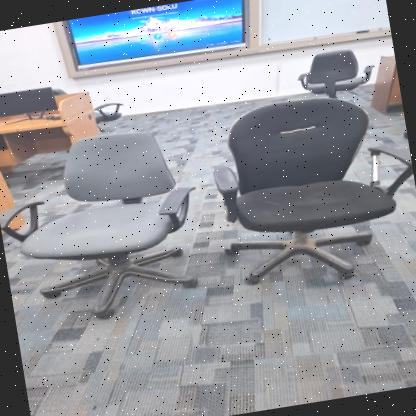chair: (195, 75, 416, 309), (0, 115, 218, 335), (286, 38, 384, 112)
